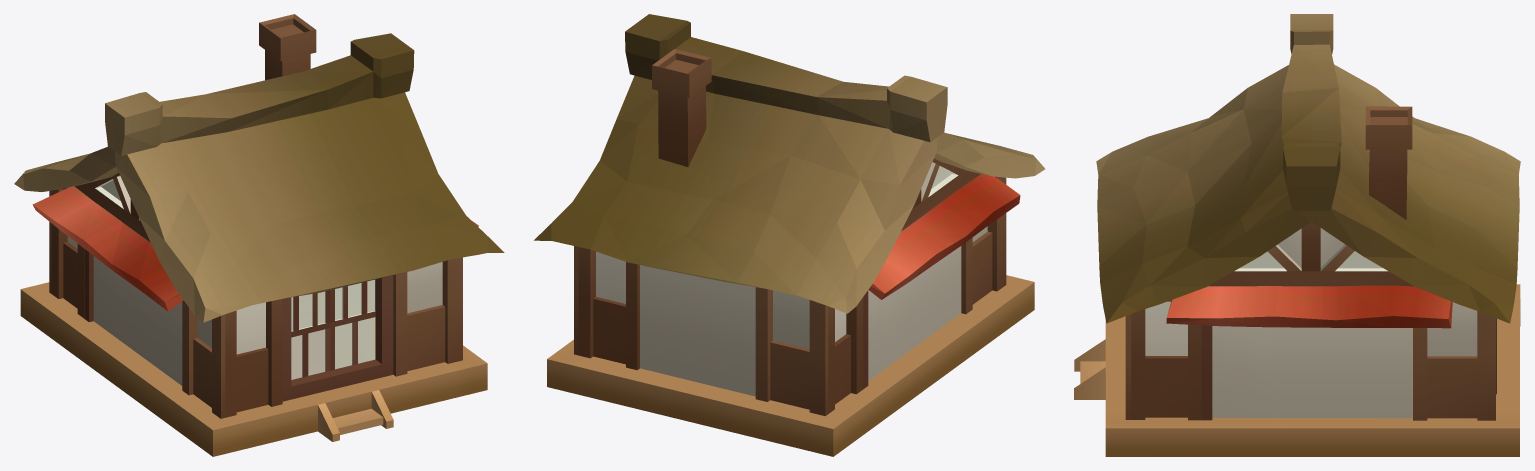
Rendered from cottage.glb.
3 views of the same model, side by side, from view 1: azimuth 30°, elevation 25°; view 2: azimuth 150°, elevation 25°; view 3: azimuth 270°, elevation 25° (orthographic). The views are drawn at different scales.
Visible parts, largest first — view 1: cottage; view 2: cottage; view 3: cottage.
Boxes of the visible parts, x1,y1,x2,y2 form: cottage: [14, 14, 504, 456]; cottage: [534, 14, 1045, 456]; cottage: [1074, 14, 1520, 456].
Size of the model in its own units: 5.52 by 4.78 by 6.35.
1 material, 1 textured.
